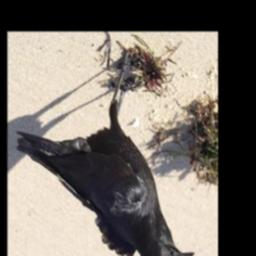Crow: (15, 44, 195, 256)
